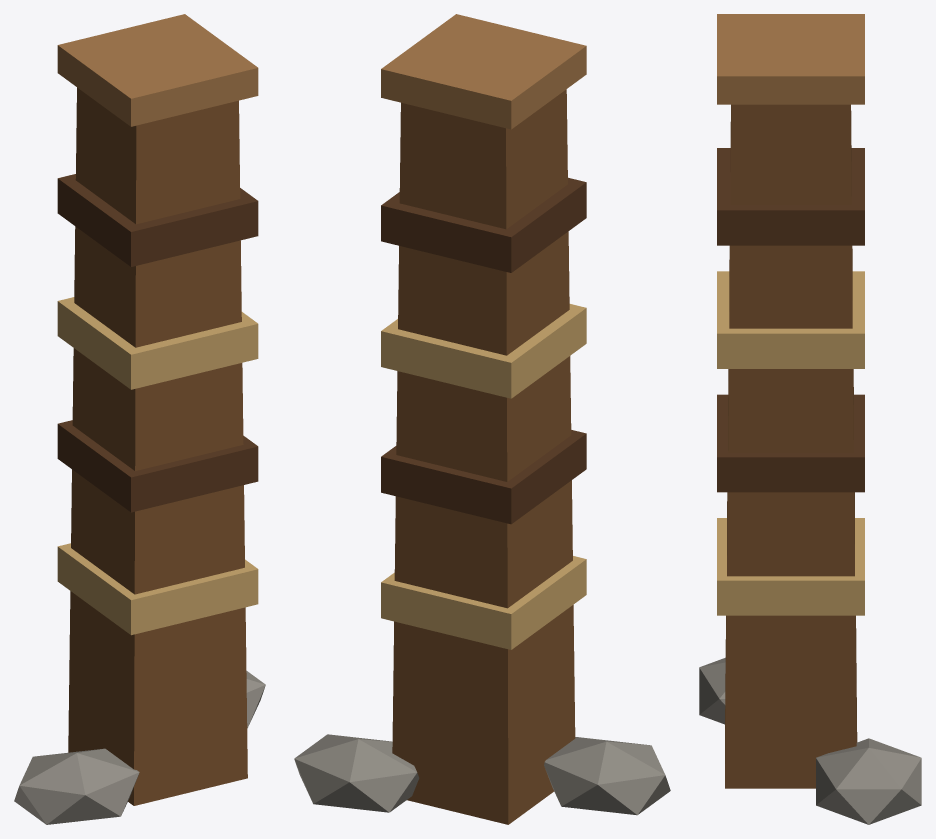
The model's file is PR_TrainingPost.fbx.
The picture shows the model from 3 angles, left to right: view 1: azimuth 30°, elevation 25°; view 2: azimuth 150°, elevation 25°; view 3: azimuth 270°, elevation 25°; orthographic projection. The views are drawn at different scales.
Visible parts, largest first — view 1: PR_TrainingPost; view 2: PR_TrainingPost; view 3: PR_TrainingPost.
Part boxes in pixels (x1=…): PR_TrainingPost: x1=14, y1=14, x2=265, y2=824; PR_TrainingPost: x1=294, y1=14, x2=670, y2=824; PR_TrainingPost: x1=699, y1=14, x2=921, y2=824.
Bounding box in the file's own units: 0.8935 × 0.5722 × 2.07.
